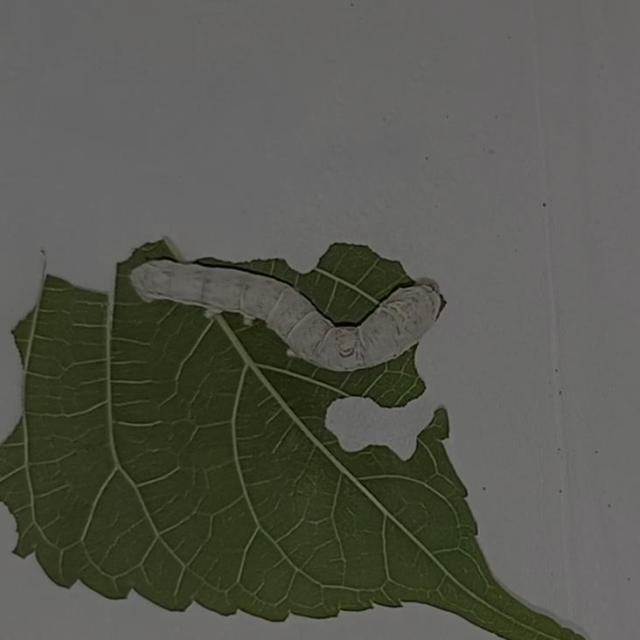Healthy: (111, 232, 472, 384)
